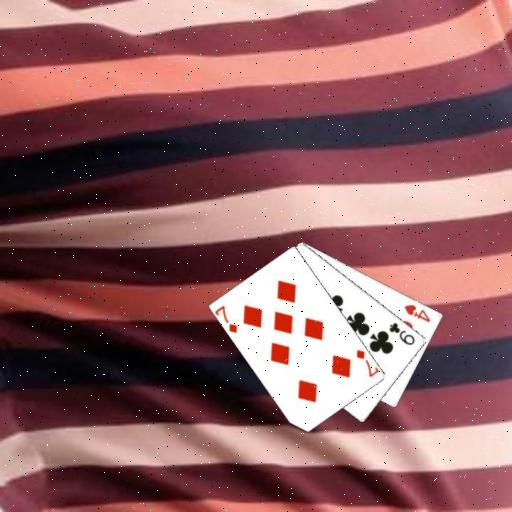4H: (402, 302, 432, 324)
7D: (354, 347, 380, 379), (213, 303, 239, 335)
9C: (387, 319, 417, 347)
